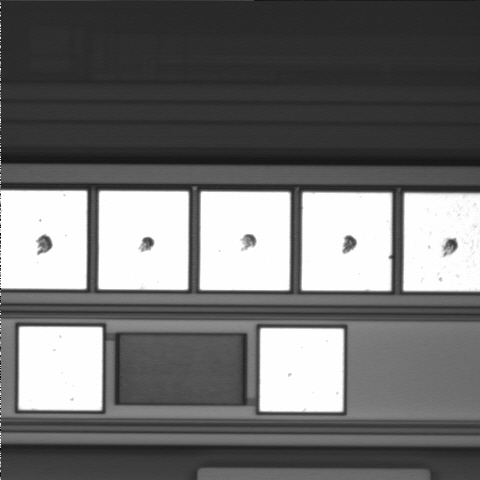pad: (98, 191, 189, 290), (302, 192, 392, 291), (200, 192, 290, 290), (260, 328, 344, 412), (19, 327, 102, 410)
